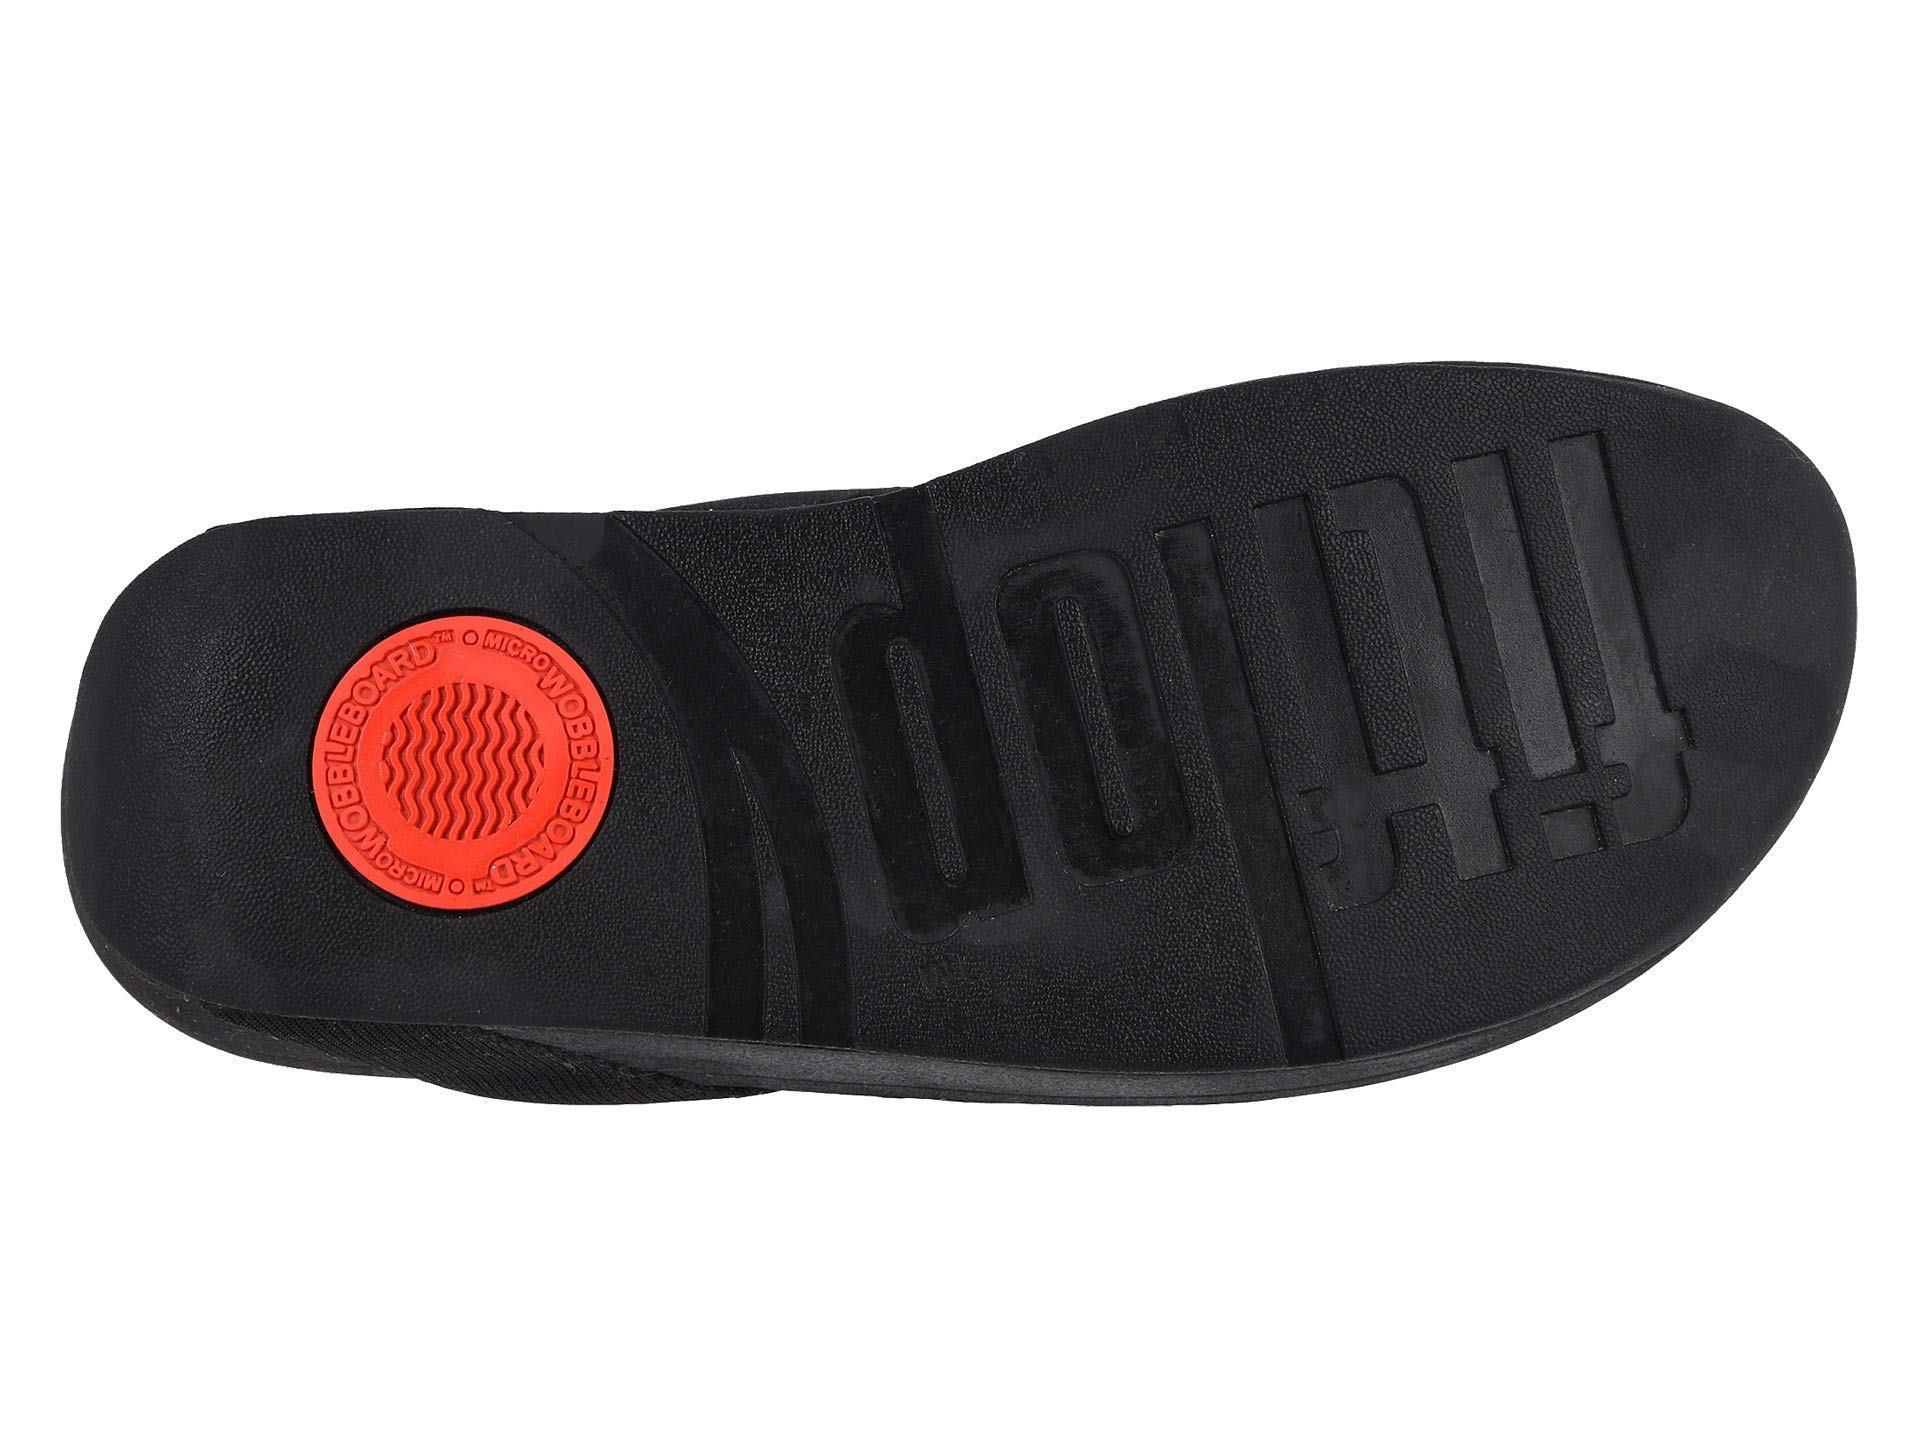chevron: (257, 570, 632, 933)
circle: (257, 570, 632, 933)
text: (890, 421, 1680, 954), (257, 570, 632, 933)
